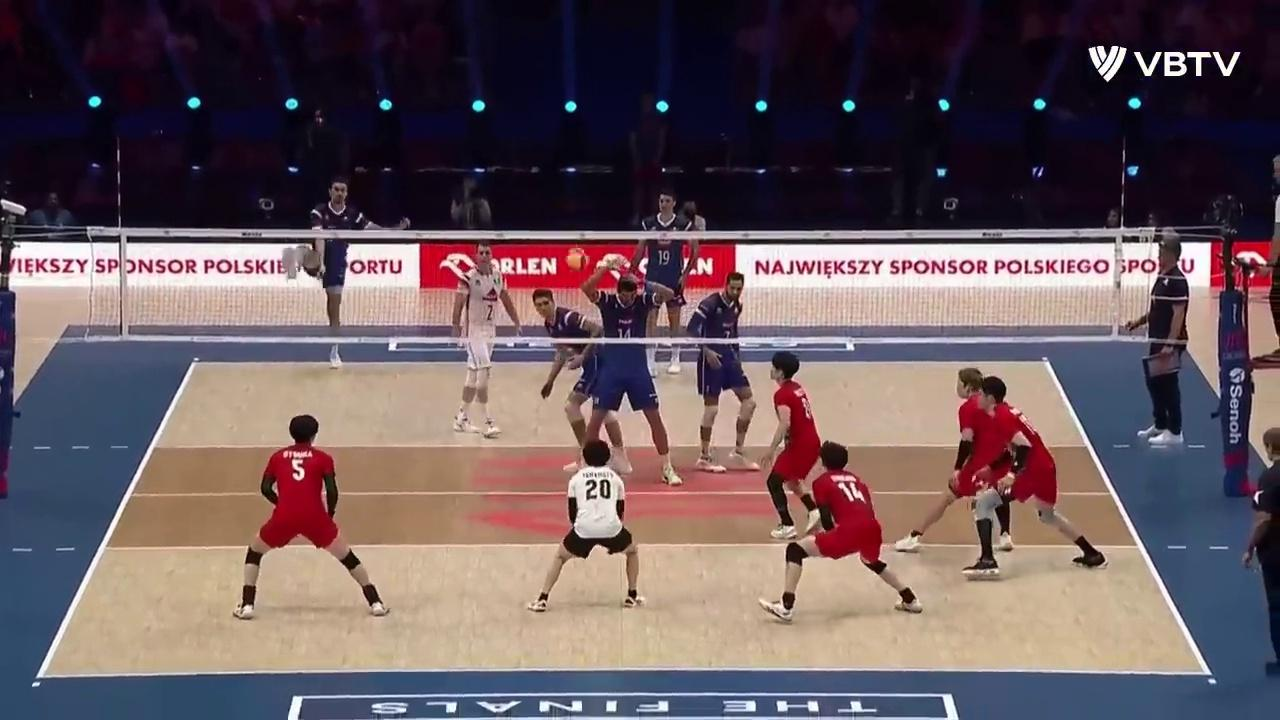ball: (568, 248, 588, 271)
